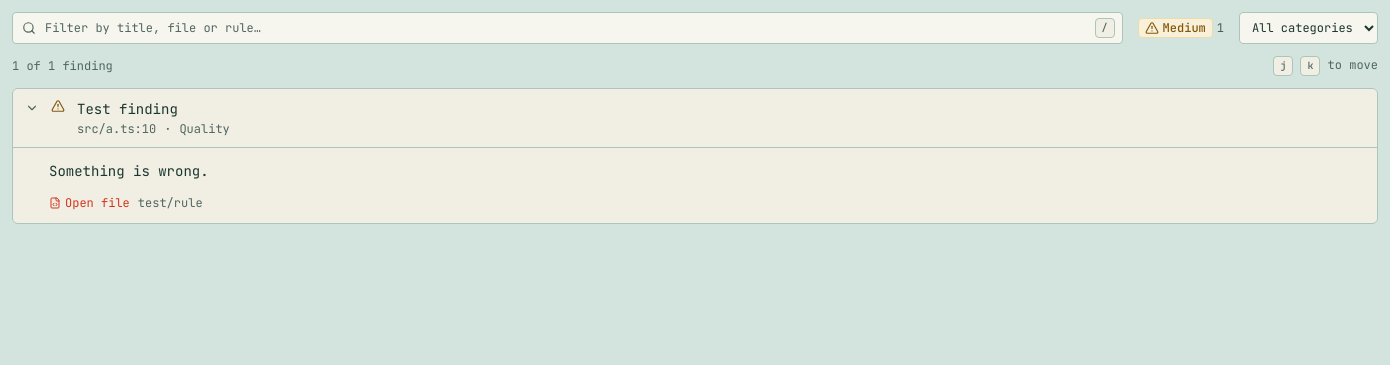
FindingsPanel › offers a way out when filters match nothing
The width and height of the screenshot is (1390, 365).
Type "zzzzz" into the field named "Filter findings" at (567, 28), box [12,12,1123,44]
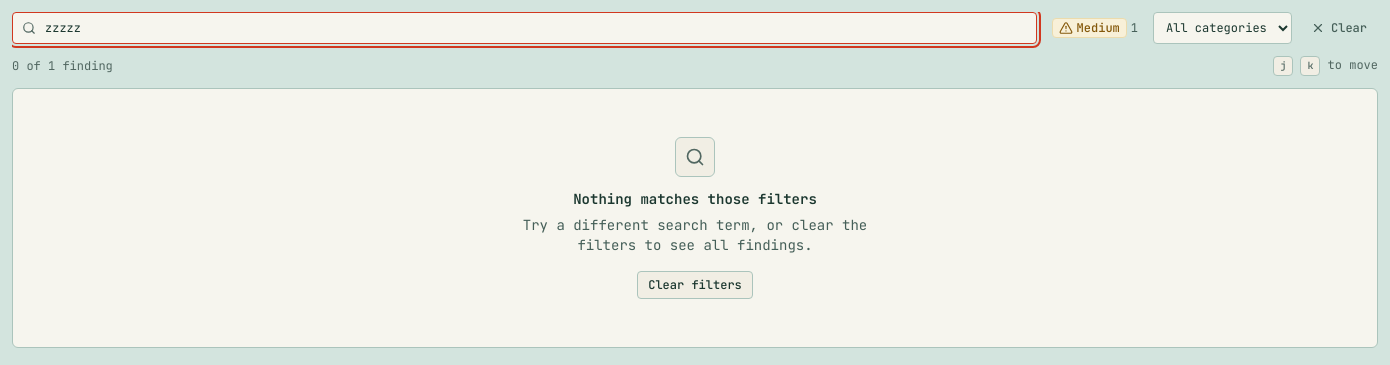
expect the heading "Nothing matches those filters" is shown: met, box [573,189,817,209]
Click the button "Clear filters" at (695, 285), box [637,271,753,299]
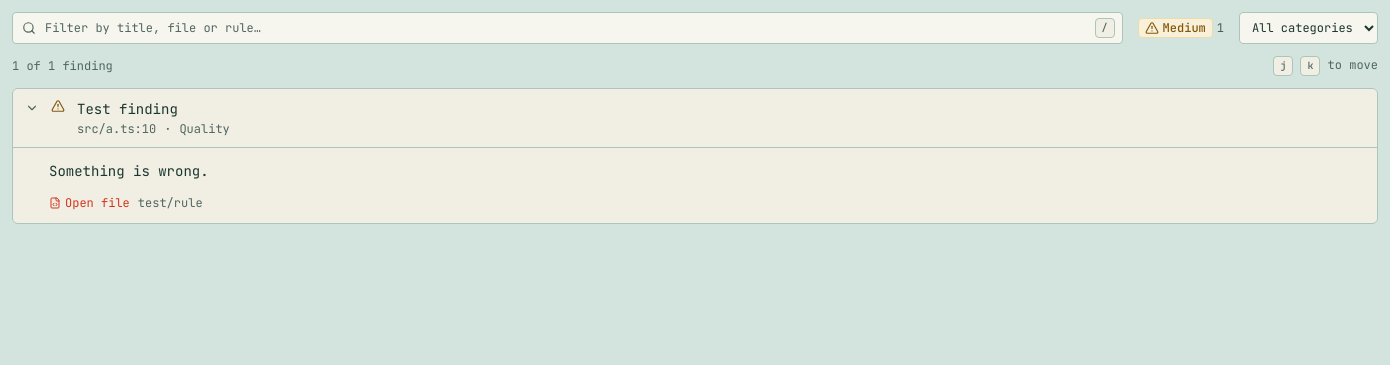
expect the text "Test finding" is shown: met, box [77,100,178,118]
